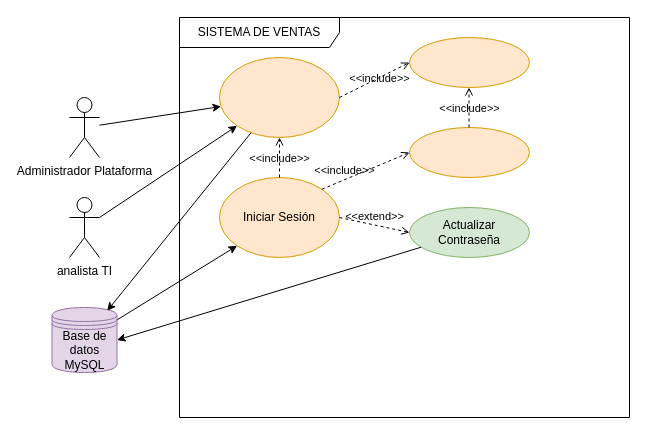
This 647x435 diagram has some shape labels left out. Each missing label, with the centre of its shape:
"Contraseña" goes at (x=469, y=152).
"Enviar Corre Cuenta" goes at (x=469, y=62).
"Registrar Usuario" goes at (x=279, y=97).
